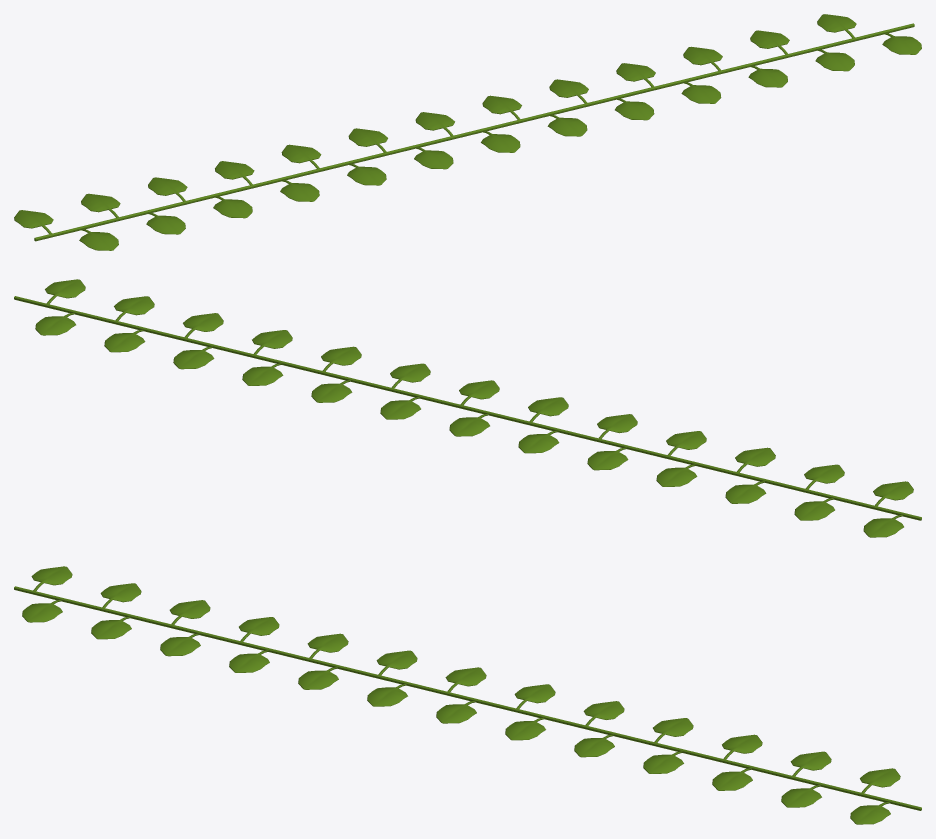
The model's file is sarmasik.fbx.
3 renders of one model, top to bottom at view 1: azimuth 30°, elevation 25°; view 2: azimuth 150°, elevation 25°; view 3: azimuth 330°, elevation 25°, orthographic. The views are drawn at different scales.
Visible parts, largest first — view 1: yaprak.001; view 2: yaprak.001; view 3: yaprak.001.
Part boxes in pixels (x1,y1,x2,y2): yaprak.001: [14, 14, 921, 250]; yaprak.001: [14, 279, 921, 537]; yaprak.001: [14, 566, 921, 824].
Bounding box in the file's own units: 1421 × 9.09 × 181.
